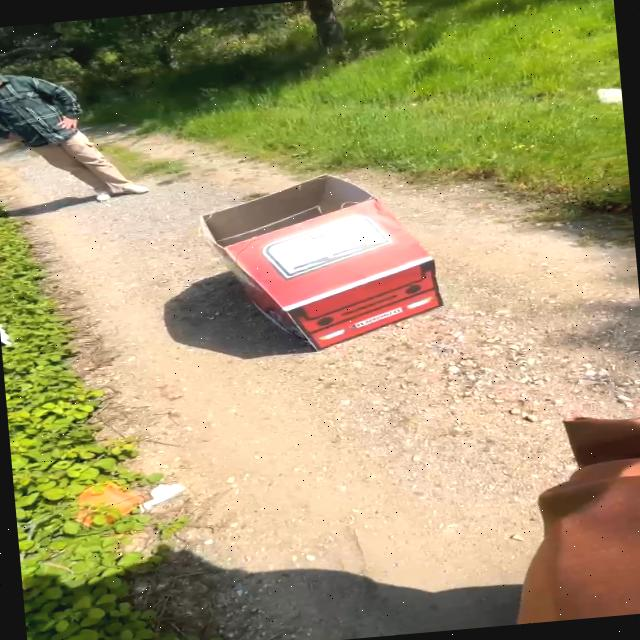red_car: (161, 139, 509, 371)
